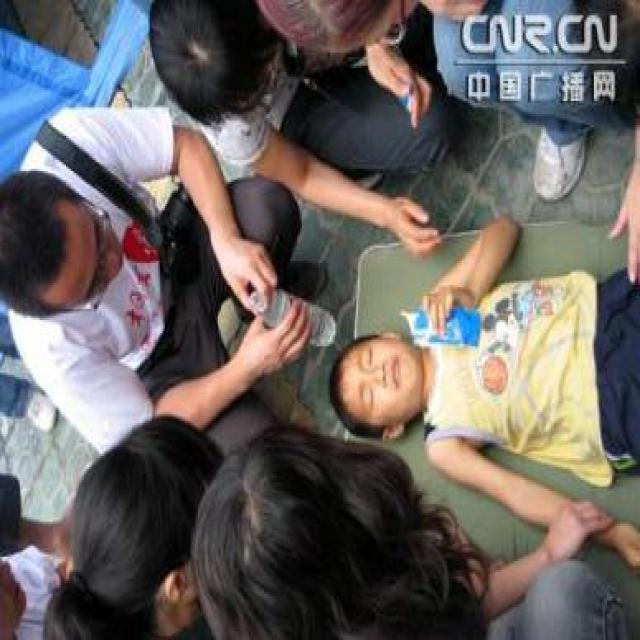fall: (328, 272, 634, 491)
